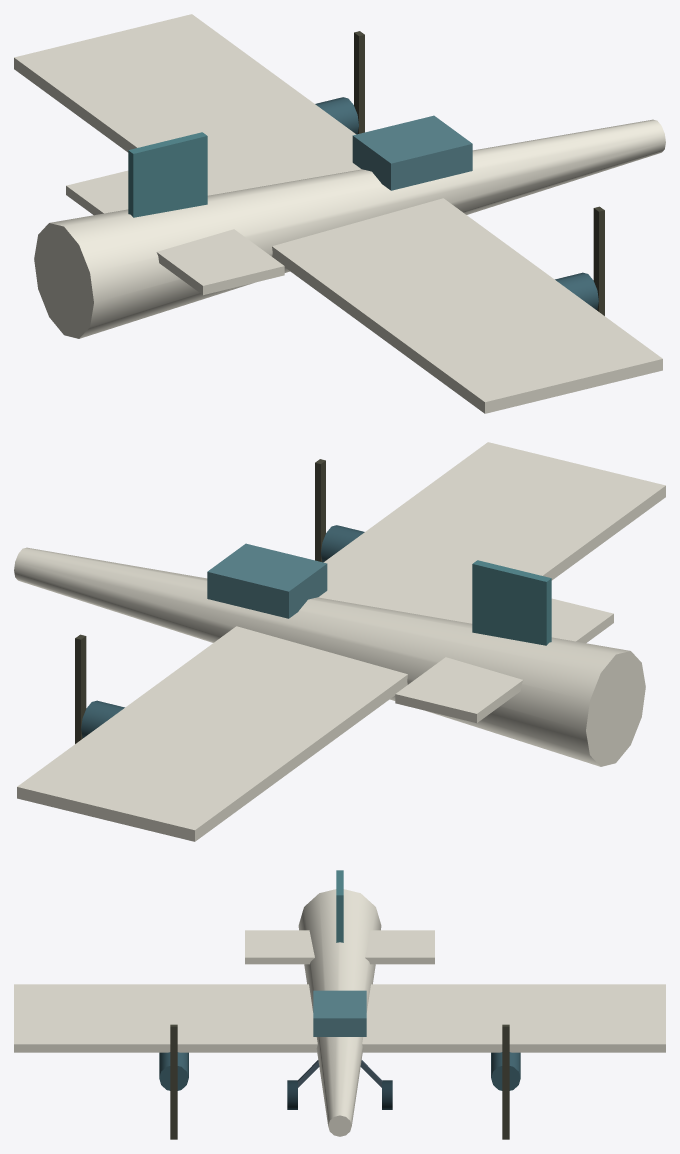
File: turboprop.glb
The picture shows the model from 3 angles, top to bottom: view 1: azimuth 30°, elevation 25°; view 2: azimuth 150°, elevation 25°; view 3: azimuth 270°, elevation 25°; orthographic projection. The views are drawn at different scales.
Visible parts, largest first — view 1: turboprop (×9); view 2: turboprop (×9); view 3: turboprop (×9).
Boxes of the visible parts, x1,y1,x2,y2 form: turboprop (×9): [14, 14, 665, 413]; turboprop (×9): [14, 442, 665, 841]; turboprop (×9): [14, 870, 665, 1139].
Bounding box in the file's own units: 8 × 2.8 × 11.
